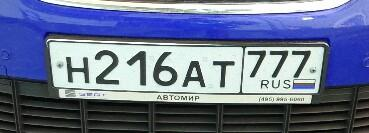license-plateSW: (47, 42, 330, 95)
